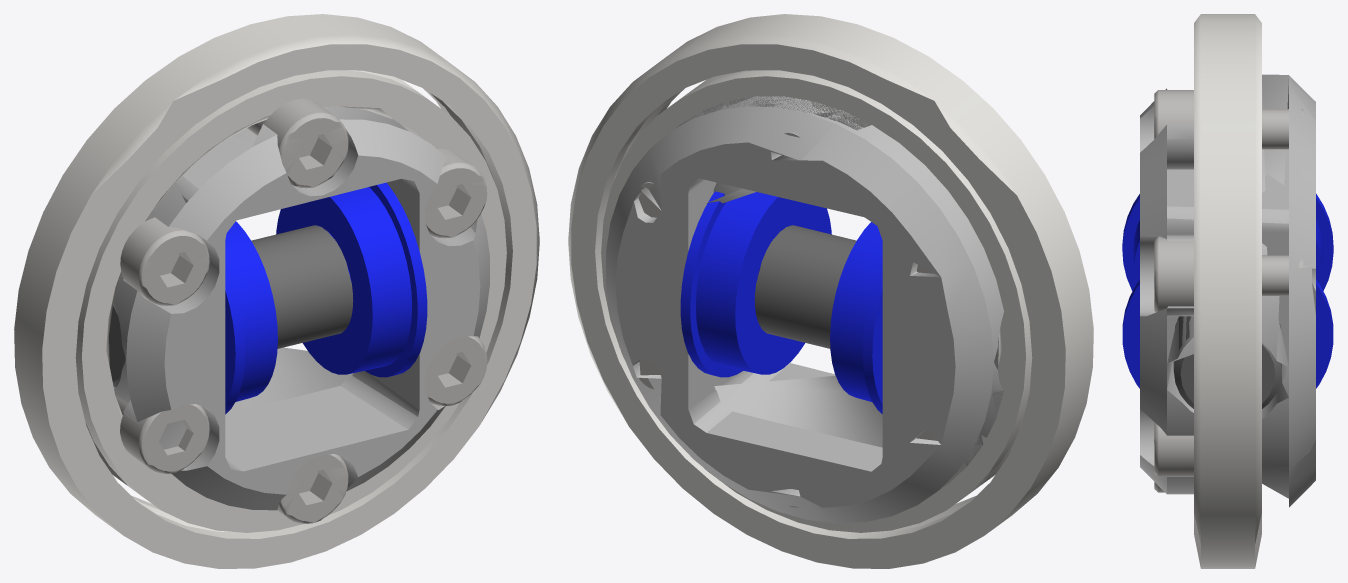
The model's file is hip_center_link.dae.
The picture shows the model from 3 angles, left to right: view 1: azimuth 30°, elevation 25°; view 2: azimuth 150°, elevation 25°; view 3: azimuth 270°, elevation 25°; orthographic projection. The views are drawn at different scales.
Visible parts, largest first — view 1: FBXASC227FBXASC130FBXASC189FBXASC227FBXASC131FBXASC170FBXASC (×12); view 2: FBXASC227FBXASC130FBXASC189FBXASC227FBXASC131FBXASC170FBXASC (×6); view 3: FBXASC227FBXASC130FBXASC189FBXASC227FBXASC131FBXASC170FBXASC (×8).
Boxes of the visible parts, bbox=[...] form: FBXASC227FBXASC130FBXASC189FBXASC227FBXASC131FBXASC170FBXASC (×12): bbox=[14, 14, 539, 568]; FBXASC227FBXASC130FBXASC189FBXASC227FBXASC131FBXASC170FBXASC (×6): bbox=[568, 14, 1093, 568]; FBXASC227FBXASC130FBXASC189FBXASC227FBXASC131FBXASC170FBXASC (×8): bbox=[1122, 14, 1333, 568].
Size of the model in its own units: 0.041 by 0.0156 by 0.041.
